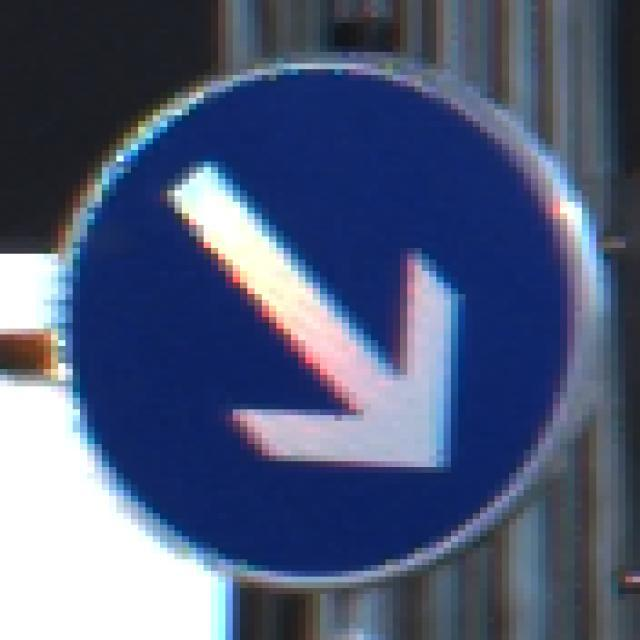compulsary keep right: (54, 51, 608, 588)
